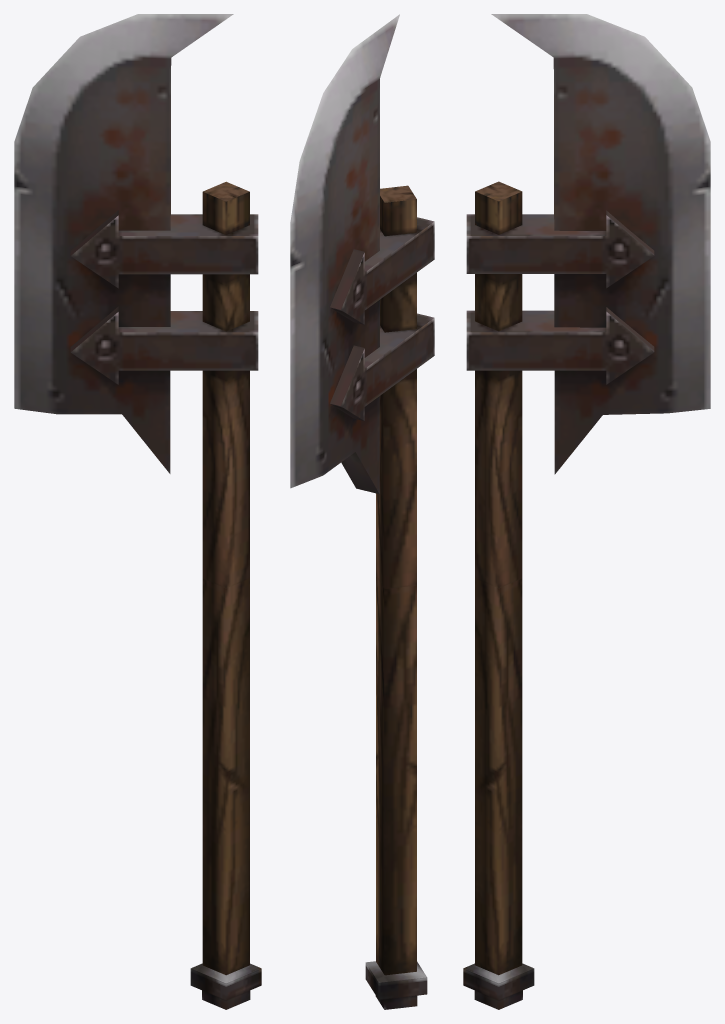
File: greataxe17_9c9086be.glb
3 renders of one model, left to right at view 1: azimuth 90°, elevation 25°; view 2: azimuth 150°, elevation 25°; view 3: azimuth 270°, elevation 25°, orthographic.
Bounding box in the file's own units: 0.1487 × 2.28 × 0.5178.
Materials: 1 (1 with a texture image).
